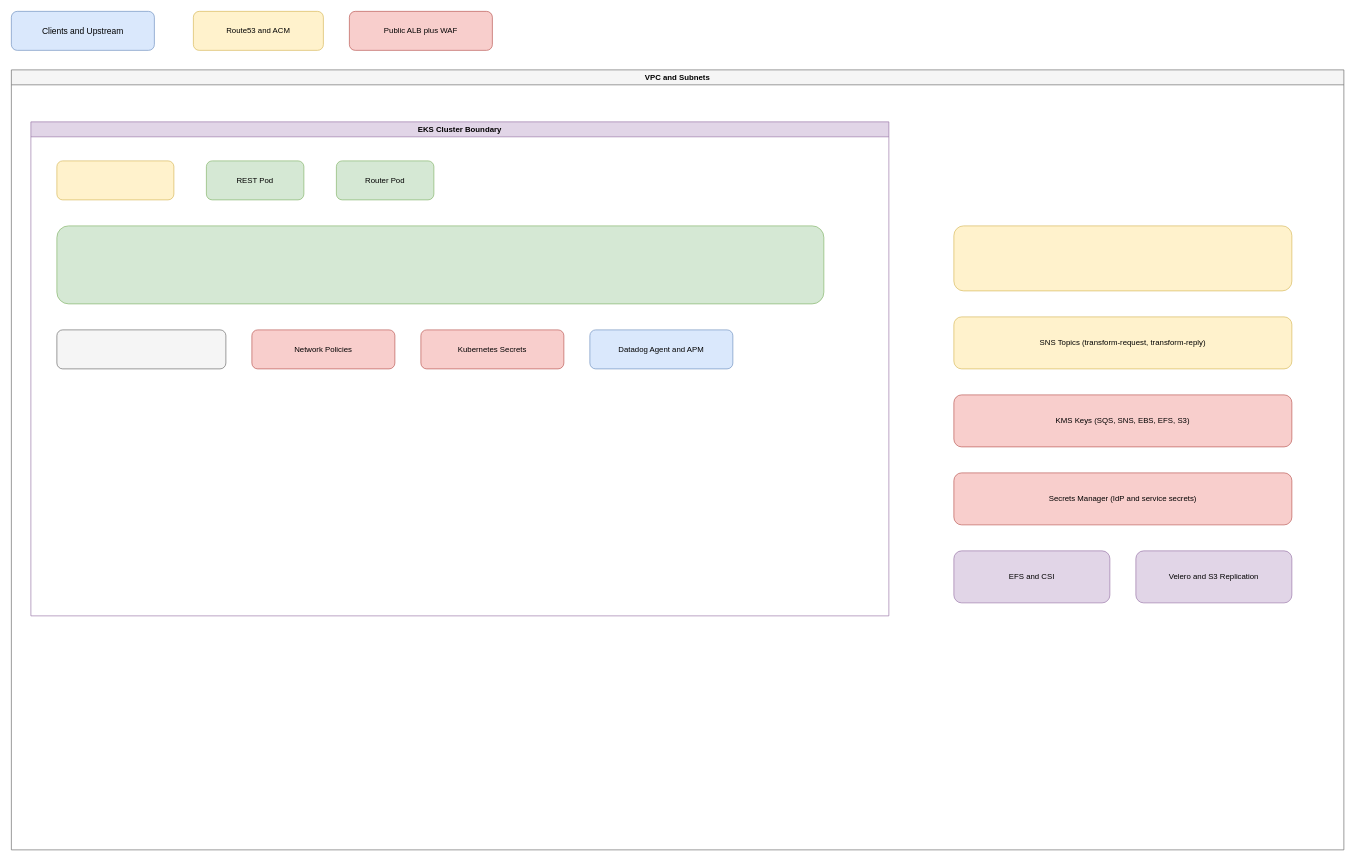
The diagram is 1355 pixels wide and 861 high, and some of its shapes have lost their labels. The shapes that lost their labels are listed below. From the top down, each one's box as (x1, y1, x2, y2) in pixels, then its label:
(56, 160, 174, 200): Ingress Controller
(56, 225, 824, 304): Engine Group: tika, imagemagick, libreoffice, misc, docfilters, docmerge, aio
(953, 225, 1292, 291): SQS Queues (request, reply, per-engine, batch)
(56, 329, 226, 369): KEDA ScaledObjects
